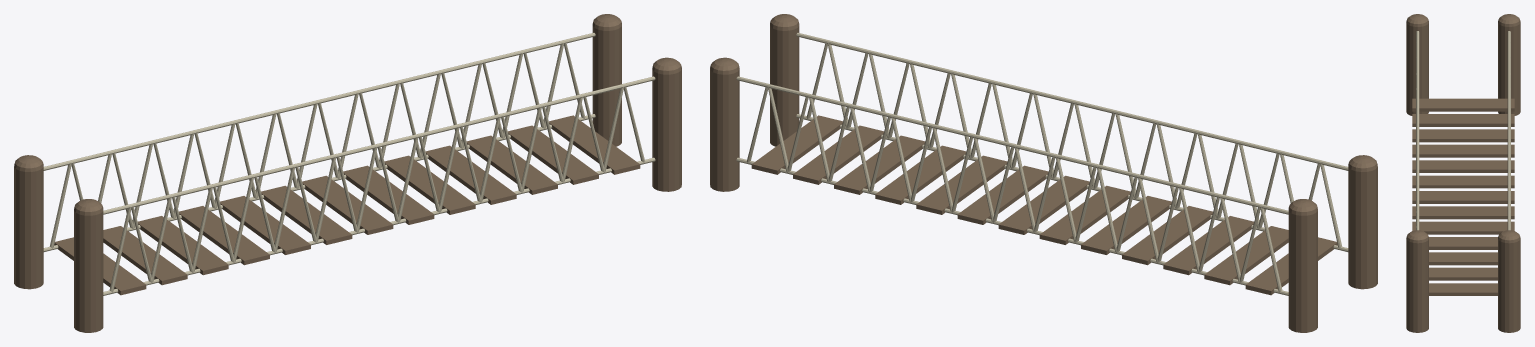
File: wood_rope_Bridge.fbx
3 views of the same model, side by side, from view 1: azimuth 30°, elevation 25°; view 2: azimuth 150°, elevation 25°; view 3: azimuth 270°, elevation 25° (orthographic). The views are drawn at different scales.
Visible parts, largest first — view 1: wood_rope_Bridge; view 2: wood_rope_Bridge; view 3: wood_rope_Bridge.
Part boxes in pixels (box(x1,y1,x2,y2)): wood_rope_Bridge: box(14, 14, 681, 332); wood_rope_Bridge: box(710, 14, 1377, 332); wood_rope_Bridge: box(1406, 14, 1520, 332).
Bounding box in the file's own units: 9.98 × 1.97 × 2.14.
